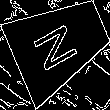N_NE: (32, 15, 87, 73)
